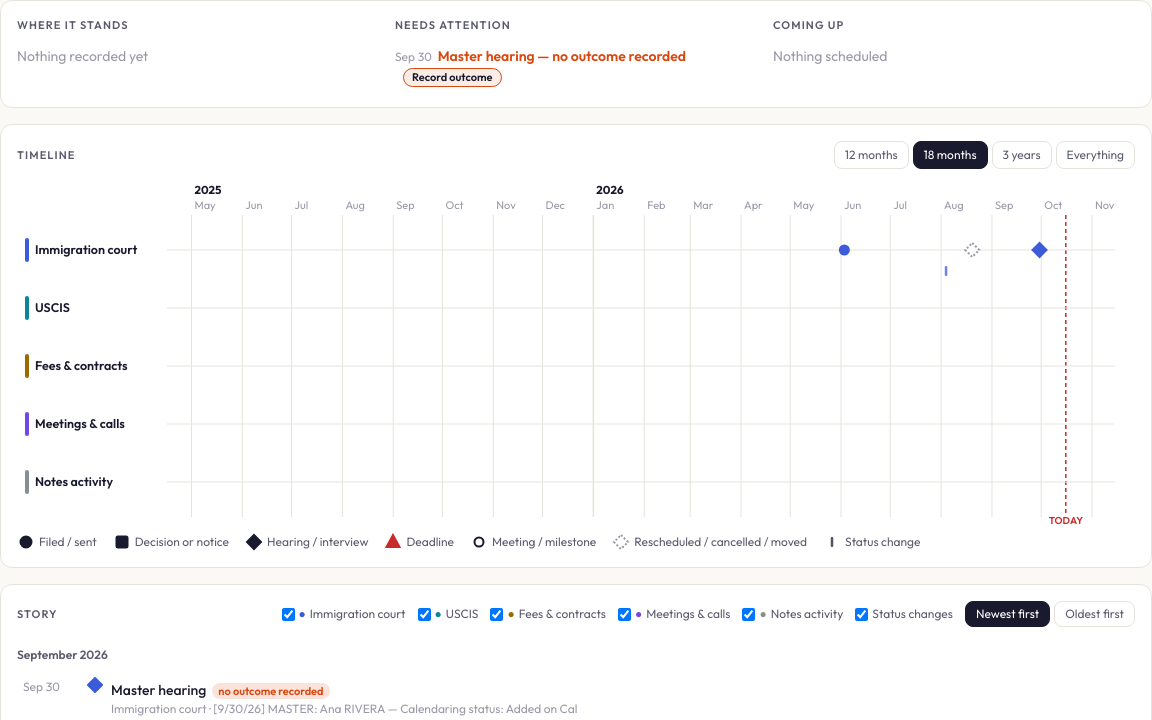
Scenario: CaseTimelineTab → M29 event panel › history: the moved date is crossed out, status changes can be hidden, M29 lists who changed what
Click the checkbox labelled "Status changes" at point(862, 614), box [855,608,868,621]
(page scrolled)
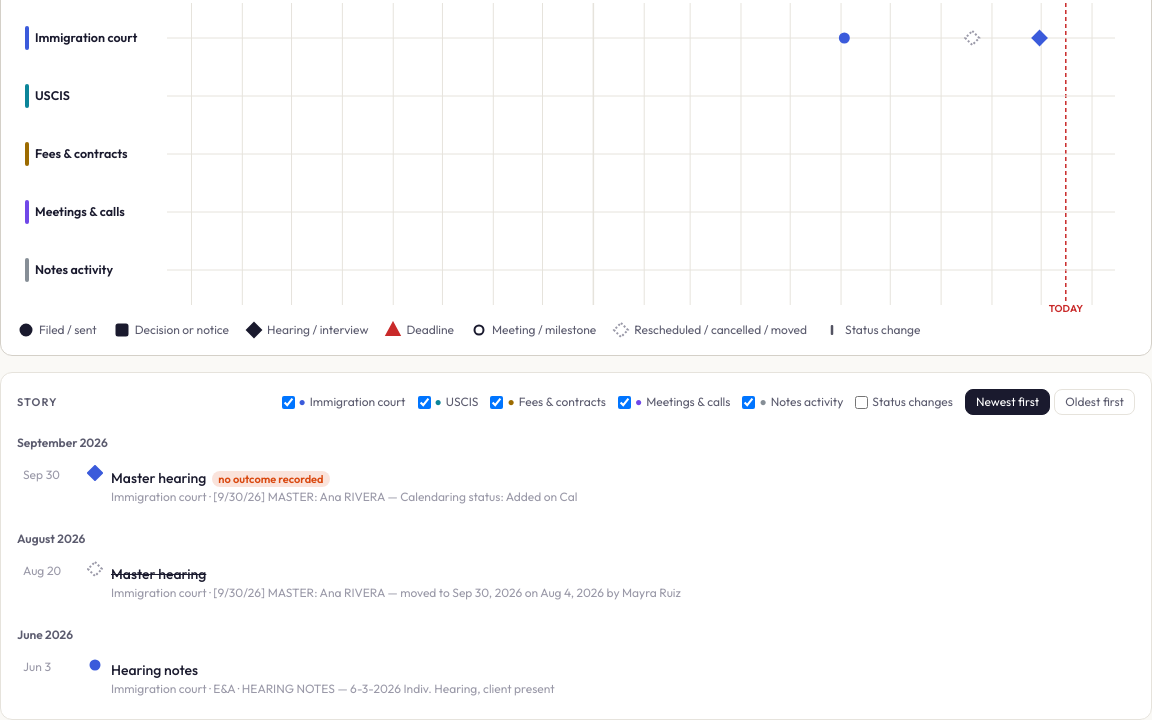
Click the button with aria-label "Master hearing, Aug 20, 2026: open" at point(42, 571), box [23,561,681,600]
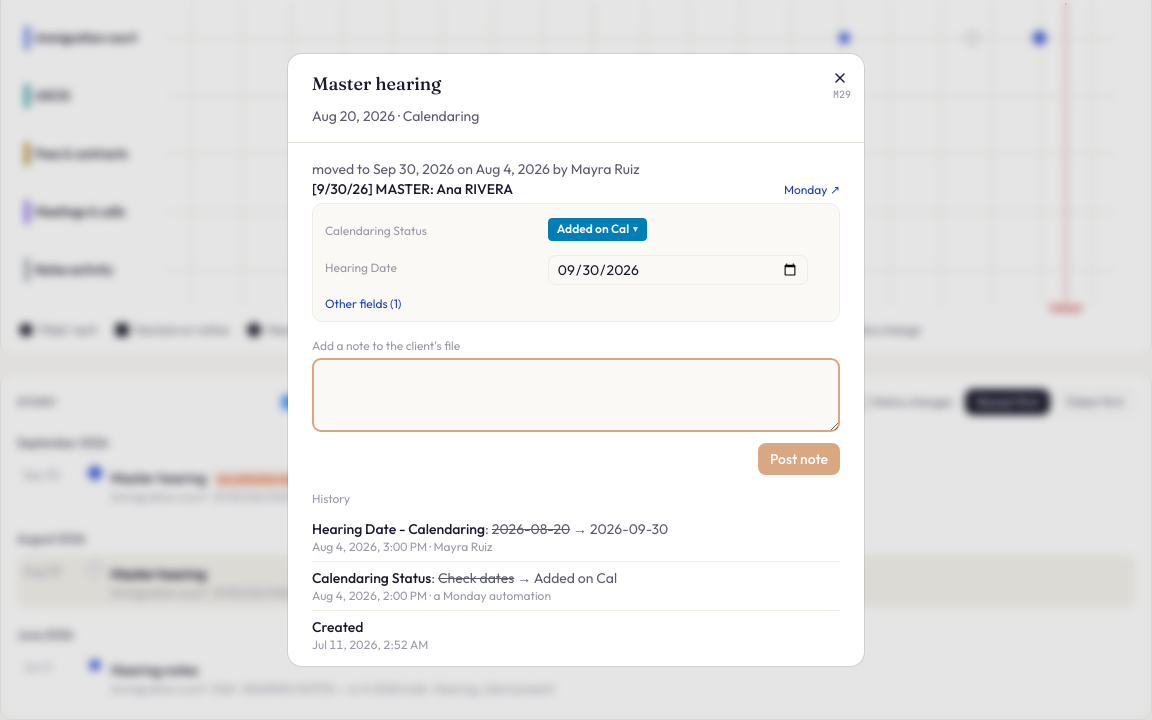
Now the element named "History" shows "Hearing Date - Calendaring: 2026-08-20 → 2026-09-30", box [312,491,840,659]
Now the element named "History" shows "Mayra Ruiz", box [427,539,492,554]
Now the element named "History" shows "a Monday automation", box [427,588,551,603]
